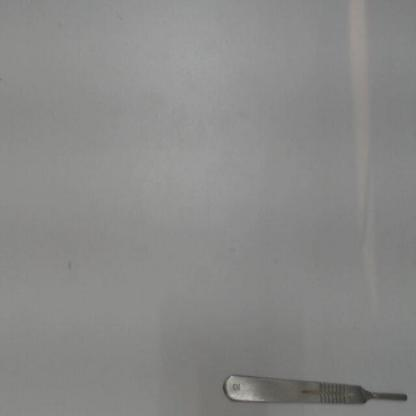No.4 BP Handle: (219, 367, 411, 410)
